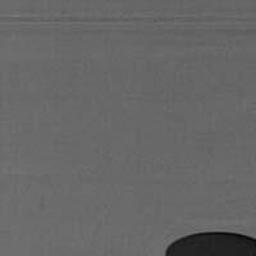Punching: (166, 230, 256, 256)
